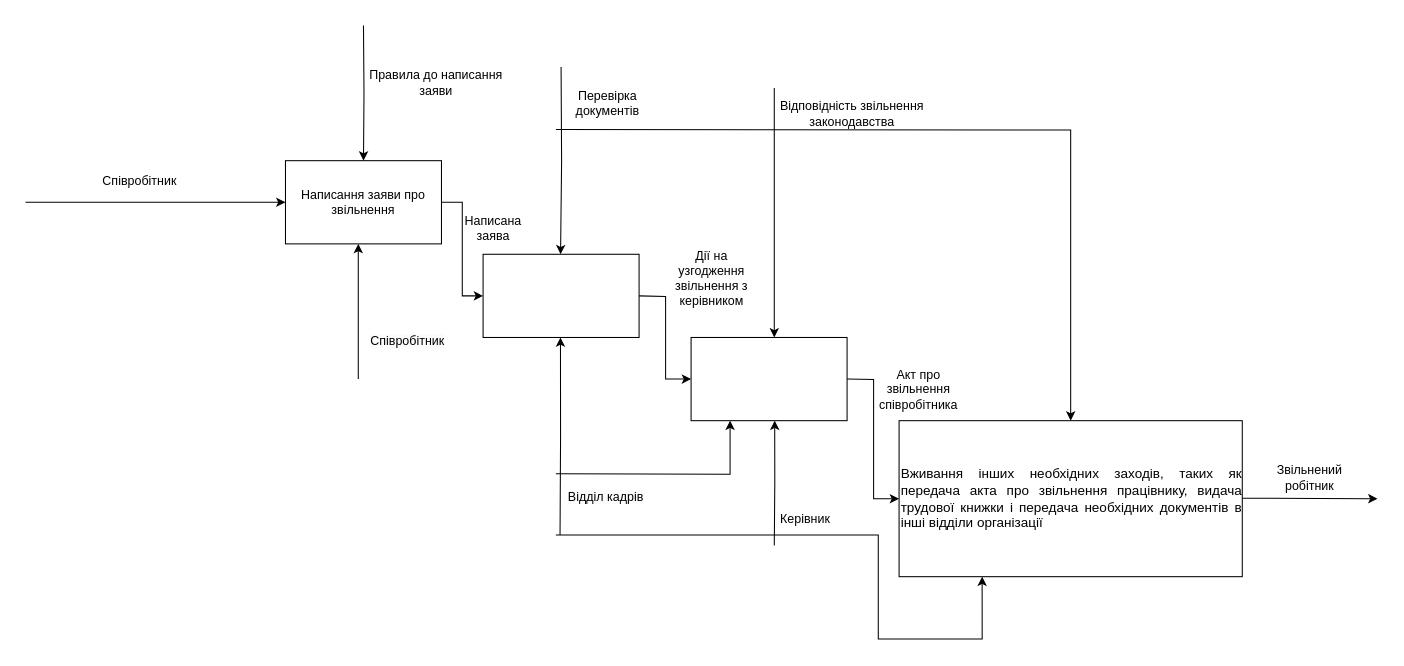
The diagram is 1404 pixels wide and 666 high, and some of its shapes have lost their labels. Each missing label, with the box of its shape:
Перевірка заяви: (482, 253, 639, 337)
Узгодження звільнення з керівником: (690, 336, 847, 421)
